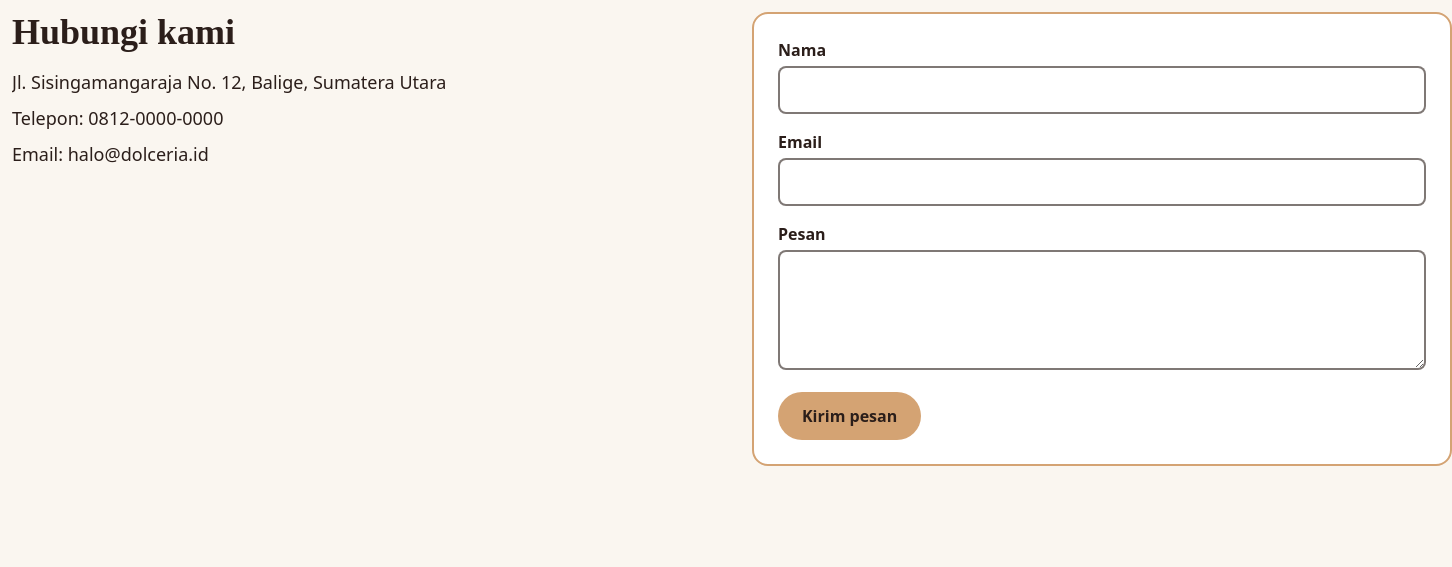
Test: Kontak › menampilkan error validasi lalu pesan sukses
The width and height of the screenshot is (1452, 567).
Click the button "Kirim pesan": click(850, 416) 778,392 -> 921,440
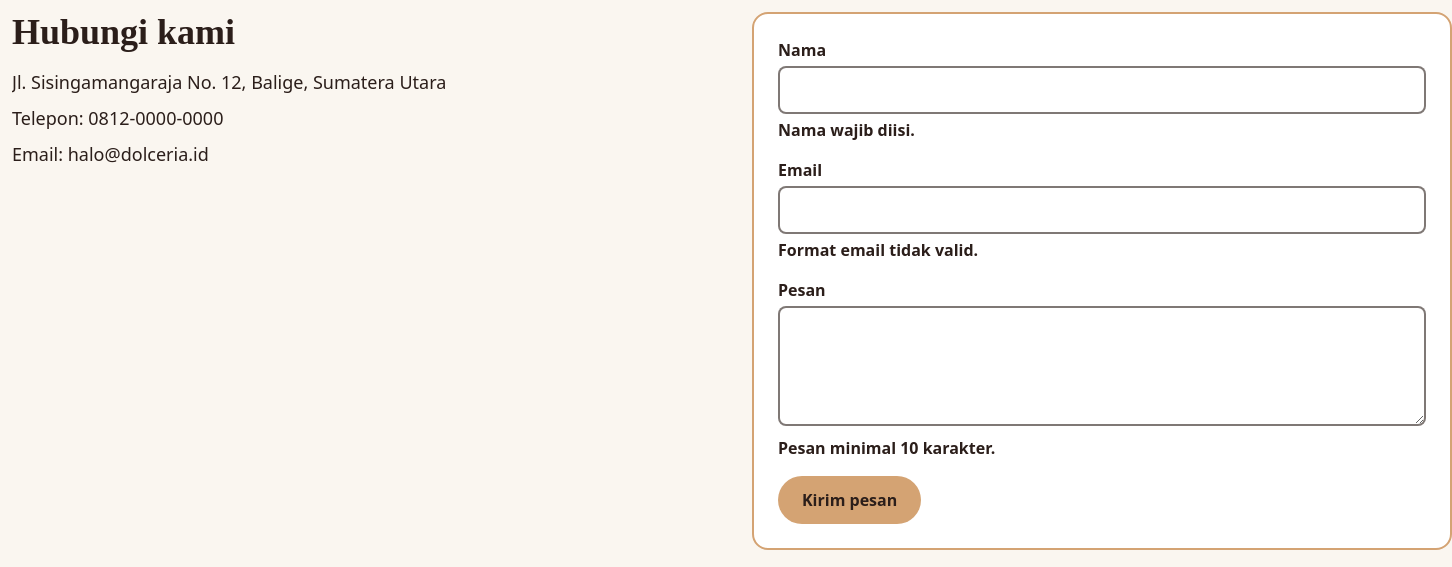
Expected: the text "Nama wajib diisi." is shown, 778,119 -> 915,141
In the field labelled "Nama": (1102, 90) 778,66 -> 1426,114, type "Budi"
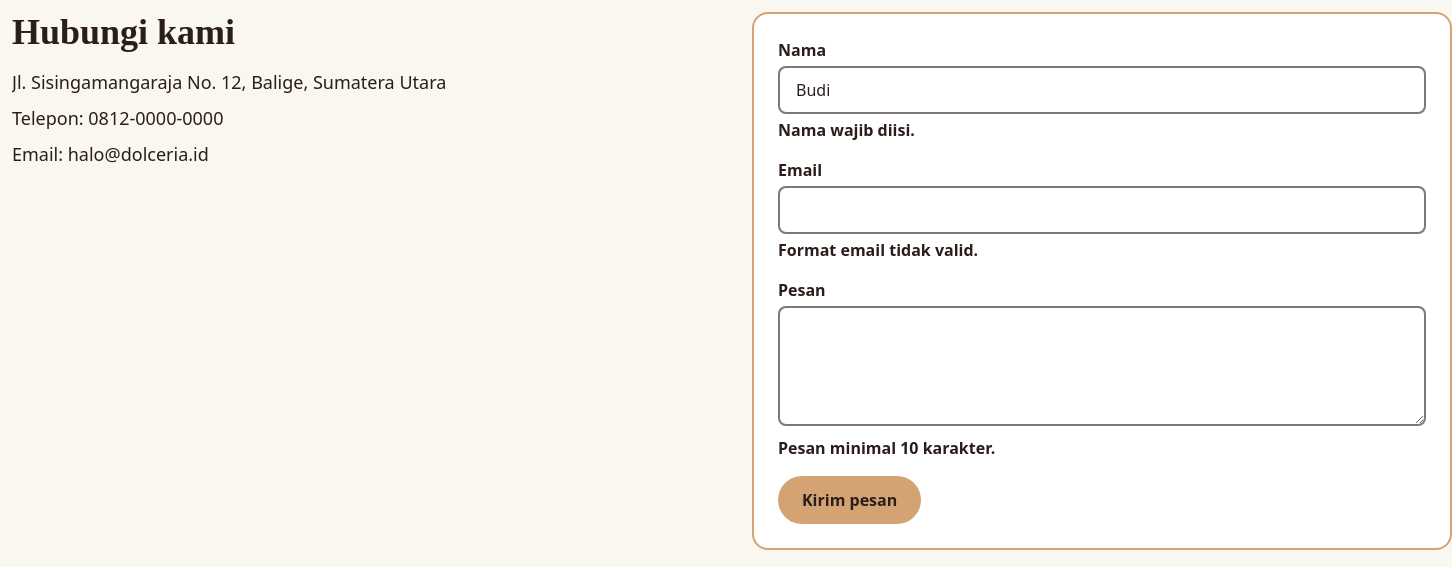
In the field labelled "Email": (1102, 210) 778,186 -> 1426,234, type "budi@mail.com"
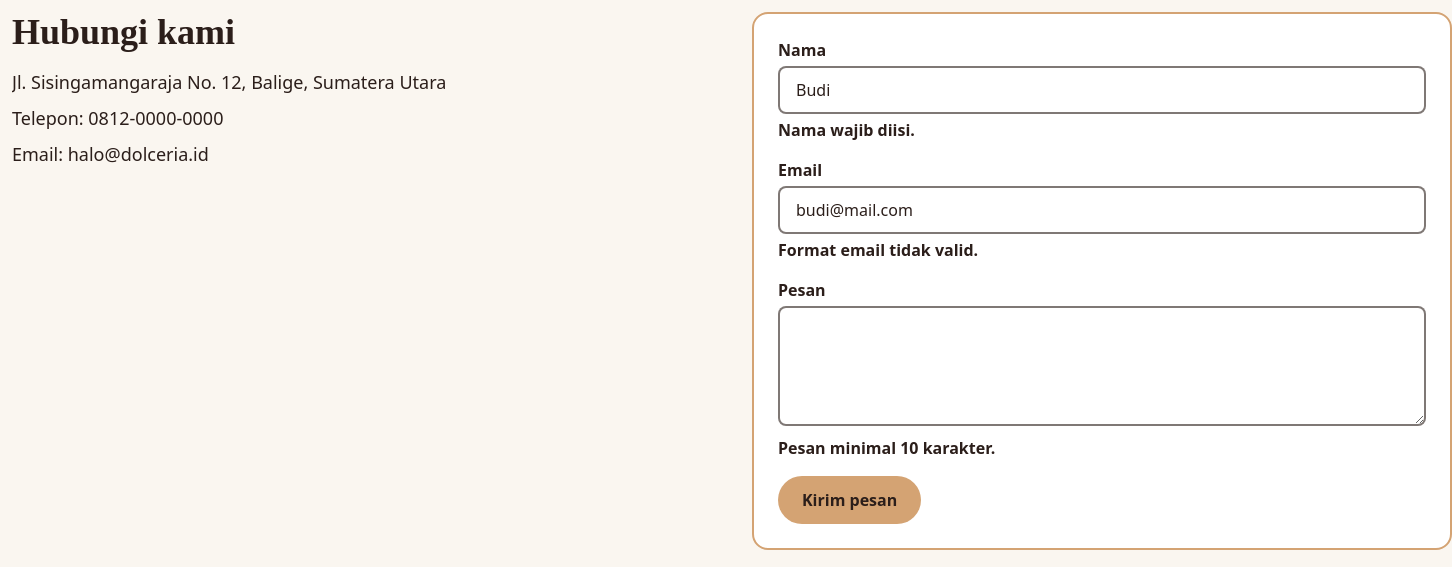
In the text box labelled "Pesan": (1102, 366) 778,306 -> 1426,426, type "Saya ingin pesan kue ulang tahun."
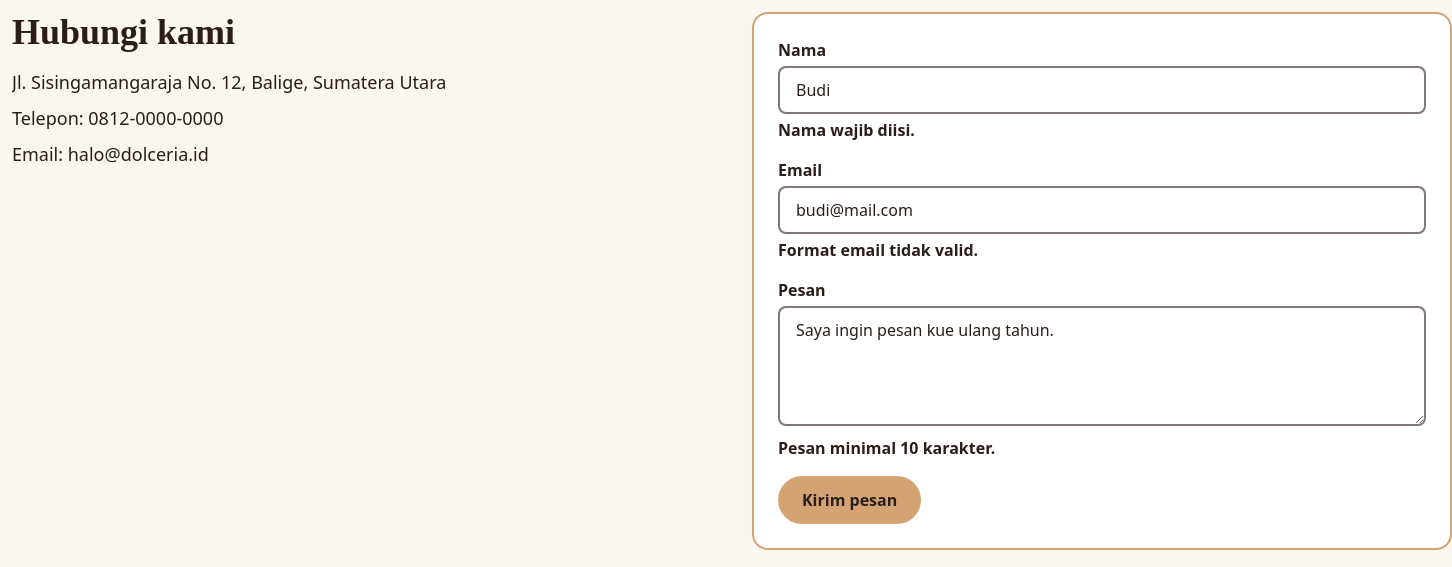
Click the button "Kirim pesan": click(850, 500) 778,476 -> 921,524
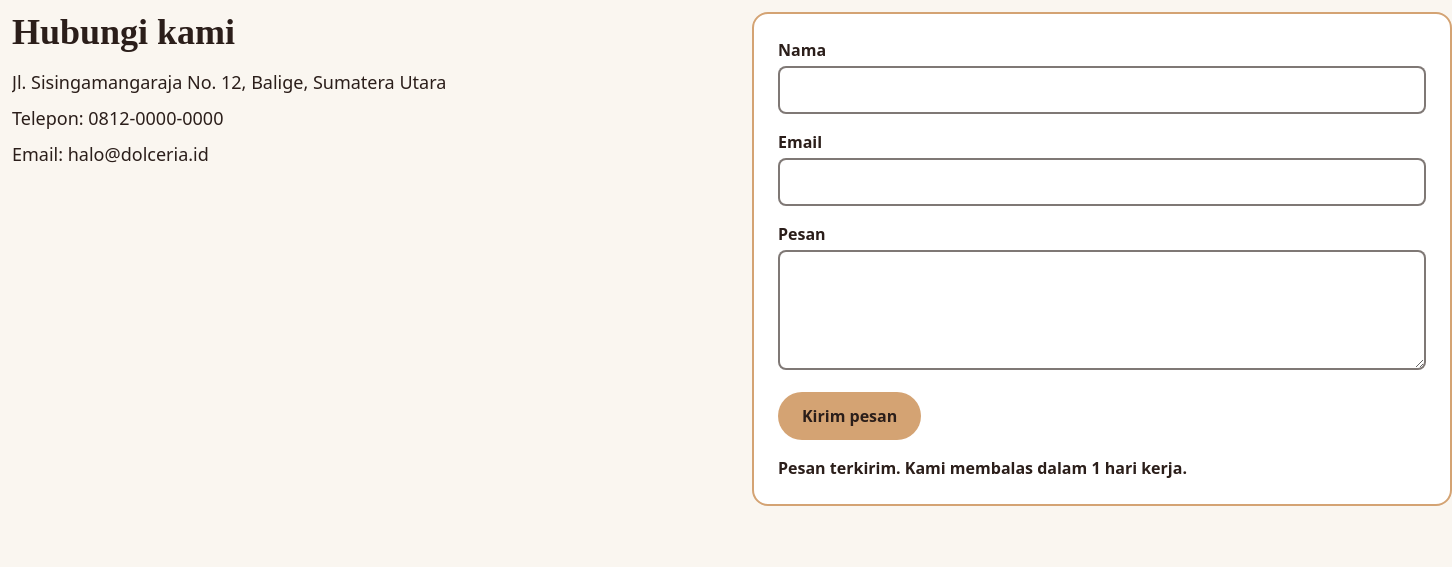
Expected: the text "Pesan terkirim. Kami membalas dalam 1 hari kerja." is shown, 778,457 -> 1187,479
